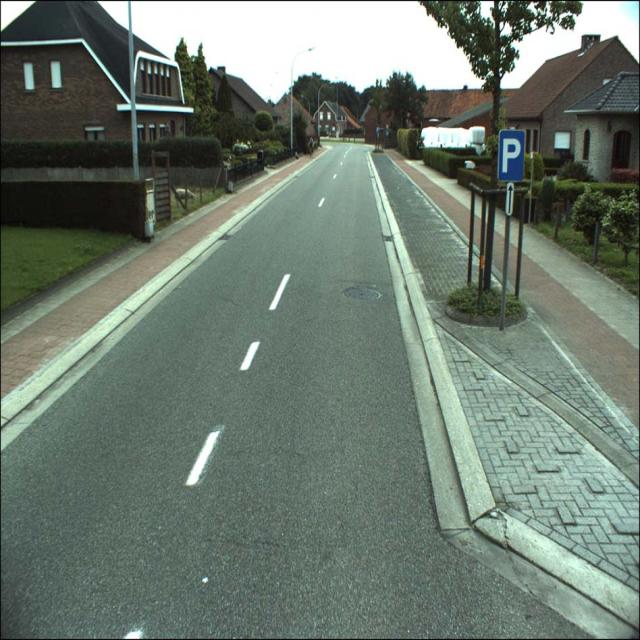park: (498, 130, 525, 181)
